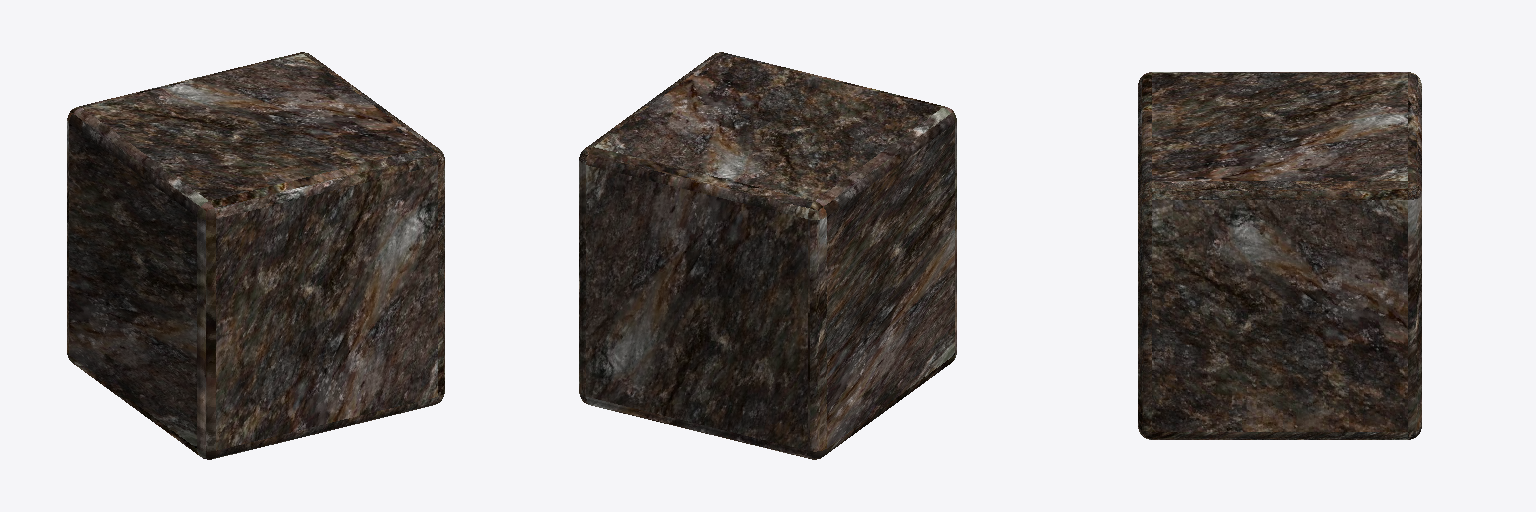
3 views of the same model, side by side, from view 1: azimuth 30°, elevation 25°; view 2: azimuth 150°, elevation 25°; view 3: azimuth 270°, elevation 25° (orthographic).
Parts seen in each view (by area): view 1: Cube; view 2: Cube; view 3: Cube.
Boxes of the visible parts, x1=… form: Cube: x1=67, y1=52, x2=444, y2=459; Cube: x1=579, y1=52, x2=956, y2=459; Cube: x1=1138, y1=72, x2=1421, y2=439.
Size of the model in its own units: 2 by 2 by 2.
Materials: 1 (1 with a texture image).